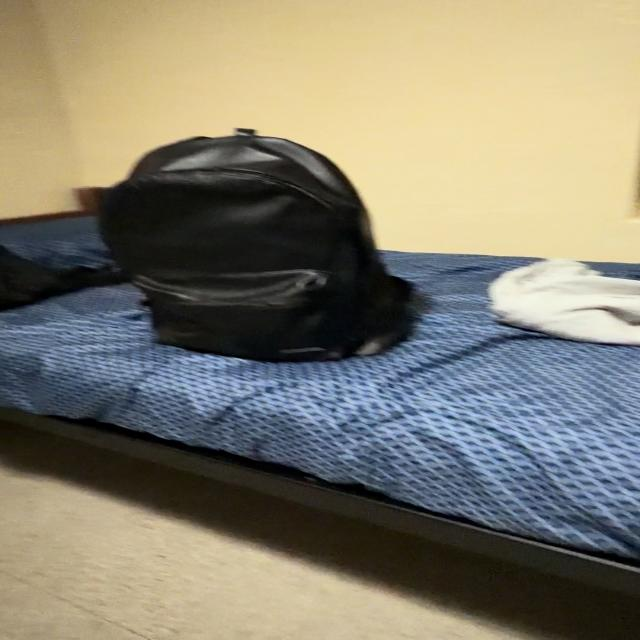backpack: (100, 130, 410, 360)
